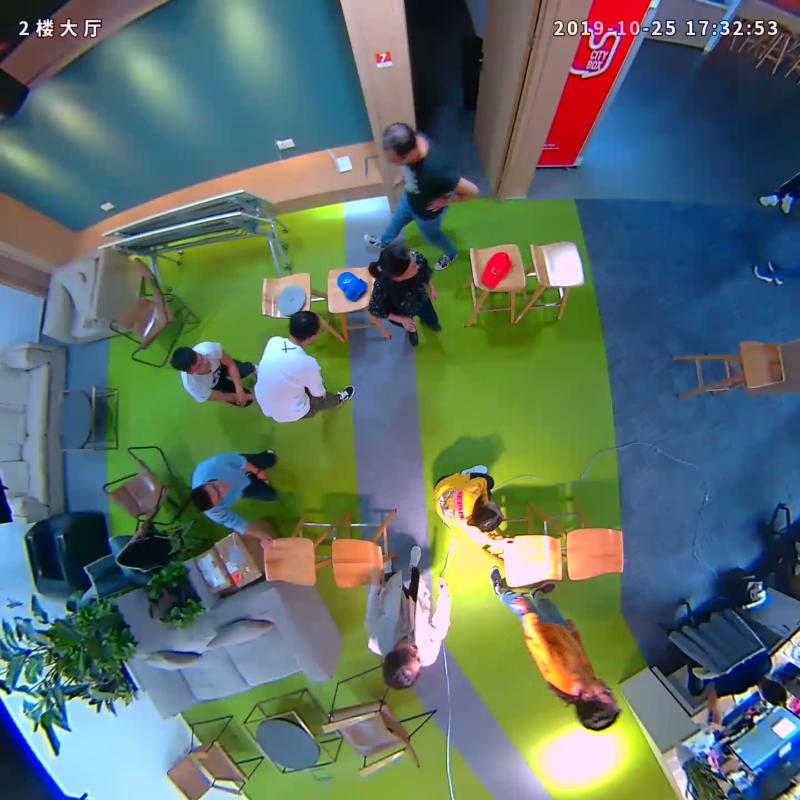head: (570, 670, 629, 738), (375, 642, 431, 695), (369, 241, 426, 290), (376, 115, 427, 167), (187, 475, 234, 519), (468, 495, 513, 536), (277, 307, 323, 346), (165, 342, 217, 376)
